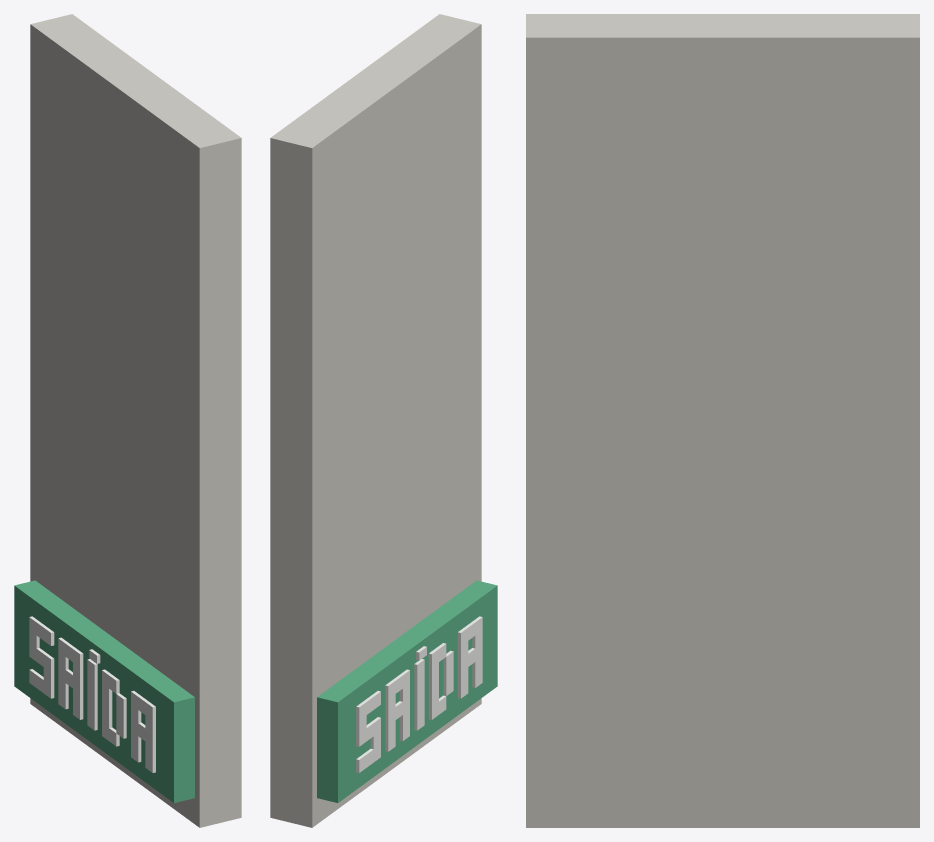
Rendered from placa_saida.fbx.
3 views of the same model, side by side, from view 1: azimuth 30°, elevation 25°; view 2: azimuth 150°, elevation 25°; view 3: azimuth 270°, elevation 25° (orthographic). The views are drawn at different scales.
Parts seen in each view (by area): view 1: placa_saida; view 2: placa_saida; view 3: placa_saida.
Boxes of the visible parts, bbox=[...] form: placa_saida: bbox=[14, 14, 241, 827]; placa_saida: bbox=[270, 14, 497, 827]; placa_saida: bbox=[526, 14, 919, 827].
Bounding box in the file's own units: 31.5 × 310 × 140.
